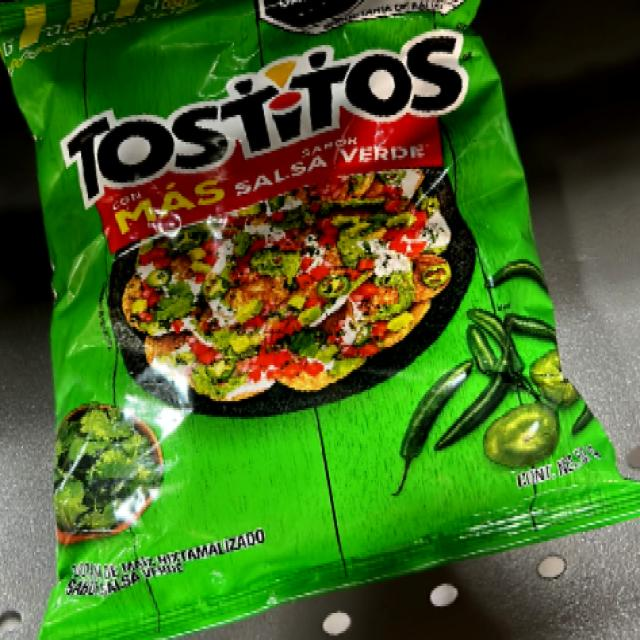tostitos: (55, 9, 499, 574)
